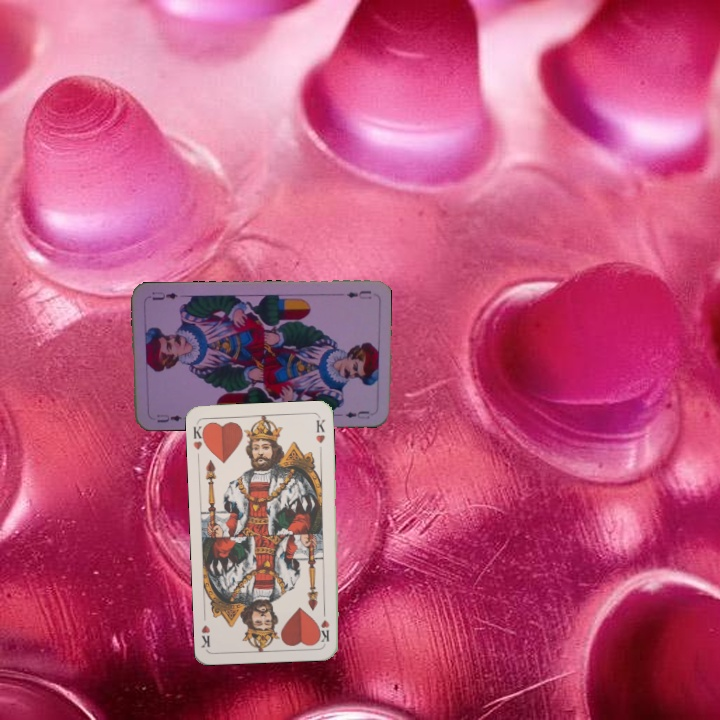EU: (153, 411, 184, 425), (343, 287, 374, 301)
HK: (189, 420, 209, 452), (317, 604, 332, 644)
